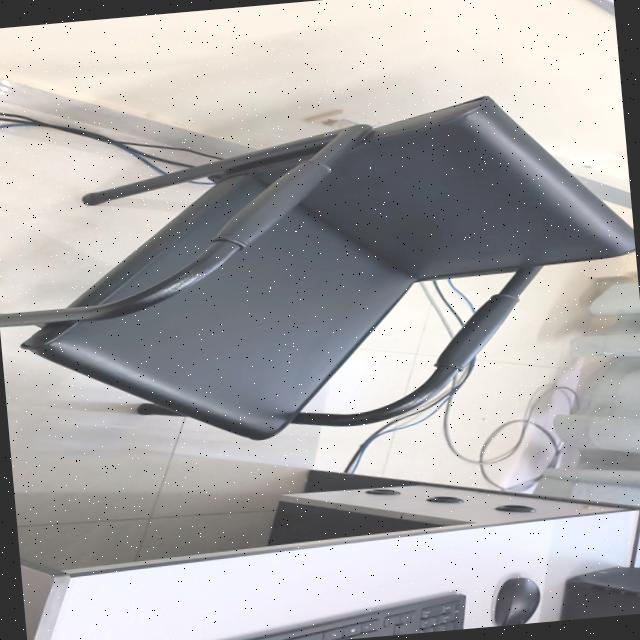Chair: (0, 95, 635, 439)
Cpu: (560, 566, 640, 620)
Keyboard: (236, 592, 465, 640)
Mouse: (494, 576, 540, 626)
